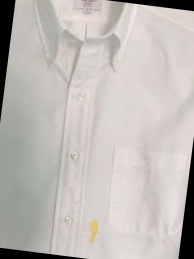mustard: (83, 215, 100, 241)
